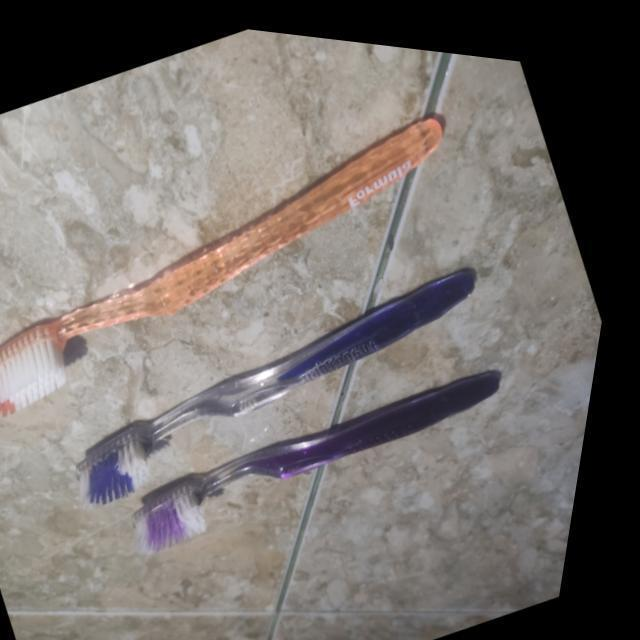toothbrush: (1, 29, 540, 489), (44, 194, 560, 558), (110, 300, 566, 612)
